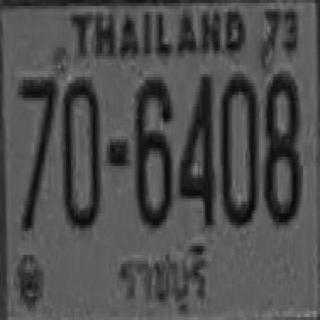N00: (61, 76, 100, 226), (219, 73, 257, 224)
N04: (178, 73, 213, 224)
N06: (135, 76, 170, 226)
N07: (16, 74, 55, 228)
N08: (263, 71, 299, 222)
P52: (114, 241, 210, 317)
